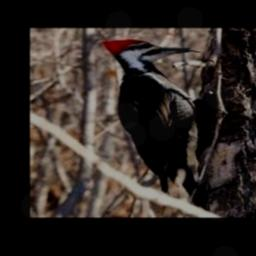Woodpecker: (102, 39, 202, 209)
